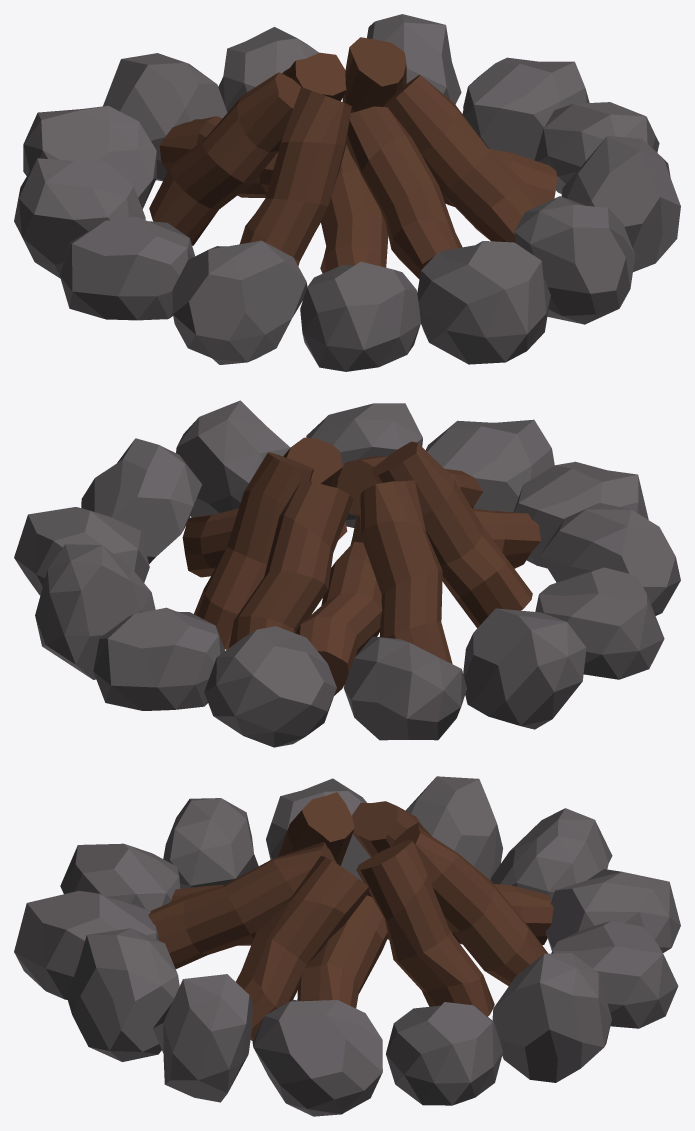
The model's file is fogueira.fbx.
3 views of the same model, one above another, from view 1: azimuth 30°, elevation 25°; view 2: azimuth 150°, elevation 25°; view 3: azimuth 270°, elevation 25° (orthographic). The views are drawn at different scales.
Parts seen in each view (by area): view 1: Cylinder.002; view 2: Cylinder.002; view 3: Cylinder.002.
Boxes of the visible parts, x1,y1,x2,y2 form: Cylinder.002: [14, 14, 680, 371]; Cylinder.002: [14, 400, 680, 747]; Cylinder.002: [14, 776, 680, 1116].
Size of the model in its own units: 102 by 32.56 by 105.
